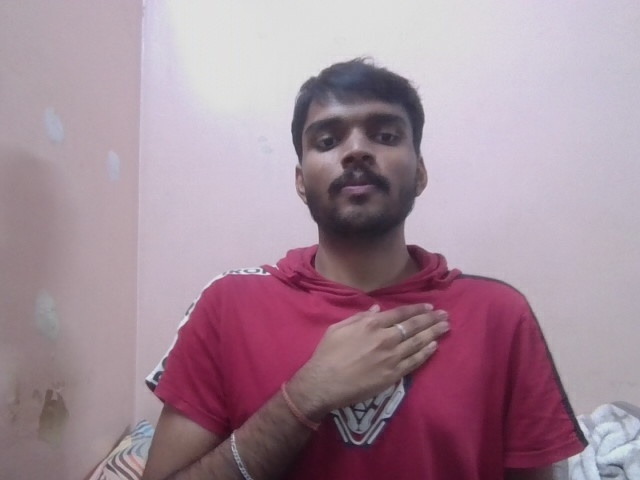Please: (308, 301, 454, 401)
